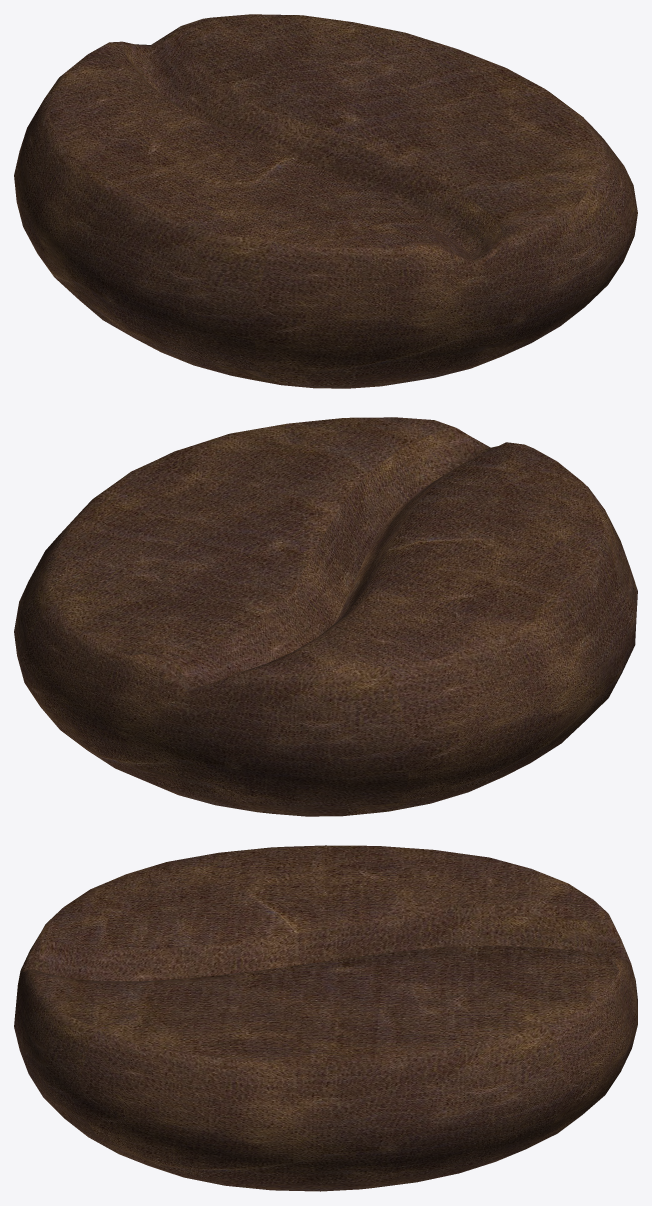
The model's file is coffee_bean.obj.
3 renders of one model, top to bottom at view 1: azimuth 30°, elevation 25°; view 2: azimuth 150°, elevation 25°; view 3: azimuth 270°, elevation 25°, orthographic. The views are drawn at different scales.
Visible parts, largest first — view 1: Coffee_Bean001_Material_23_0; view 2: Coffee_Bean001_Material_23_0; view 3: Coffee_Bean001_Material_23_0.
Part boxes in pixels (x1,y1,x2,y2): Coffee_Bean001_Material_23_0: (14, 14, 637, 388); Coffee_Bean001_Material_23_0: (14, 417, 637, 816); Coffee_Bean001_Material_23_0: (14, 845, 637, 1191).
Size of the model in its own units: 0.00246 by 0.000936 by 0.00268.
1 material, 1 textured.
